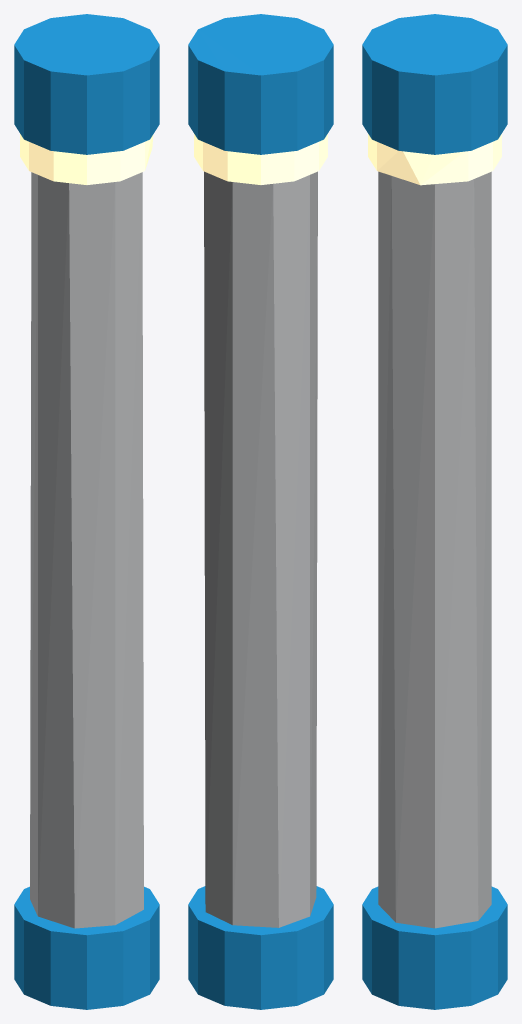
The model's file is aquarium_column.fbx.
The picture shows the model from 3 angles, left to right: view 1: azimuth 30°, elevation 25°; view 2: azimuth 150°, elevation 25°; view 3: azimuth 270°, elevation 25°; orthographic projection.
Parts seen in each view (by area): view 1: aquarium_column; view 2: aquarium_column; view 3: aquarium_column.
Boxes of the visible parts, box(x1,y1,x2,y2) form: aquarium_column: box(14, 14, 159, 1009); aquarium_column: box(188, 14, 333, 1009); aquarium_column: box(362, 14, 507, 1009).
Bounding box in the file's own units: 1.2 × 8.5 × 1.2.
